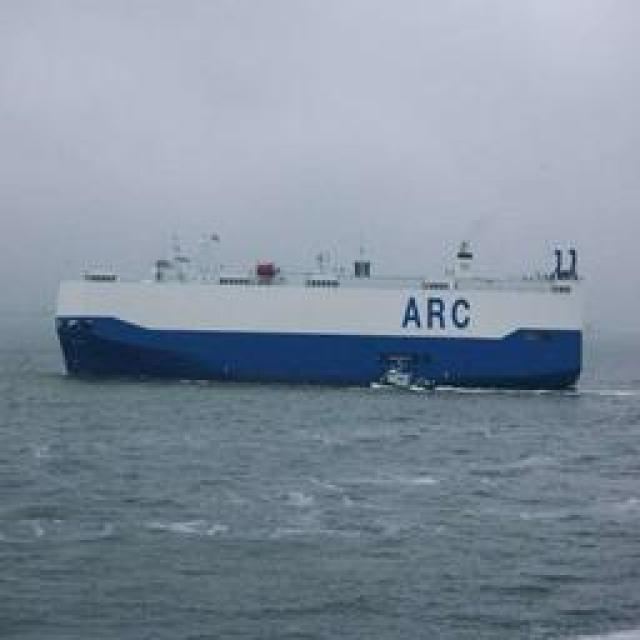CIV_Ship: (55, 242, 590, 392)
